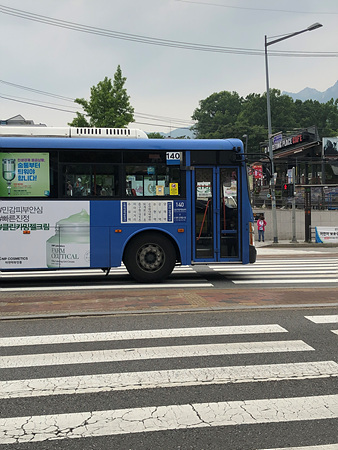entrance: (189, 155, 246, 266)
